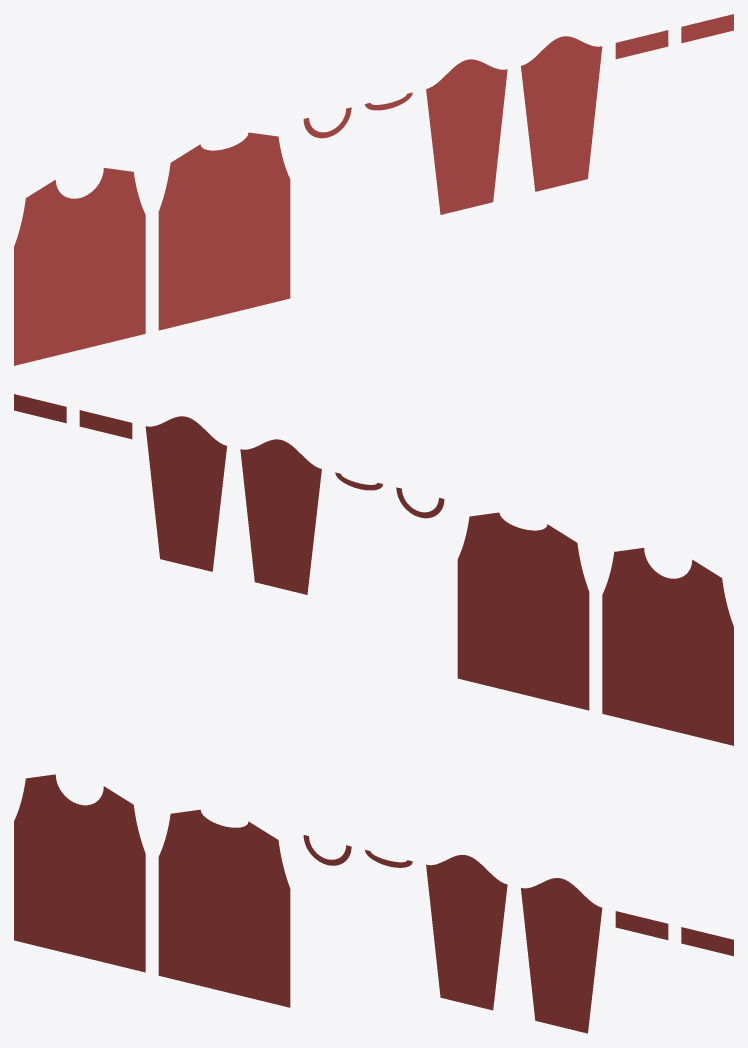
Rendered from camisa-interior-cepillado-talla-XS.glb.
3 renders of one model, top to bottom at view 1: azimuth 30°, elevation 25°; view 2: azimuth 150°, elevation 25°; view 3: azimuth 330°, elevation 25°, orthographic.
Visible parts, largest first — view 1: patron-espalda, patron-delantero, patron-manga-izq, patron-manga-der, patron-puno-izq, patron-puno-der; view 2: patron-espalda, patron-delantero, patron-manga-izq, patron-manga-der, patron-puno-izq, patron-puno-der; view 3: patron-espalda, patron-delantero, patron-manga-izq, patron-manga-der, patron-puno-izq, patron-puno-der.
Part boxes in pixels (bbox=[...]): patron-espalda: bbox=[158, 132, 290, 330]; patron-delantero: bbox=[14, 168, 145, 365]; patron-manga-izq: bbox=[426, 59, 507, 214]; patron-manga-der: bbox=[521, 36, 602, 191]; patron-puno-izq: bbox=[615, 30, 668, 59]; patron-puno-der: bbox=[681, 14, 733, 43]; patron-espalda: bbox=[457, 512, 589, 710]; patron-delantero: bbox=[602, 548, 733, 745]; patron-manga-izq: bbox=[240, 439, 321, 594]; patron-manga-der: bbox=[145, 416, 226, 571]; patron-puno-izq: bbox=[79, 410, 132, 439]; patron-puno-der: bbox=[14, 394, 66, 423]; patron-espalda: bbox=[158, 809, 290, 1007]; patron-delantero: bbox=[14, 774, 145, 972]; patron-manga-izq: bbox=[426, 855, 507, 1010]; patron-manga-der: bbox=[521, 878, 602, 1033]; patron-puno-izq: bbox=[615, 911, 668, 939]; patron-puno-der: bbox=[681, 927, 733, 956].
Bounding box in the file's own units: 2.74 × 0.71 × 0.
